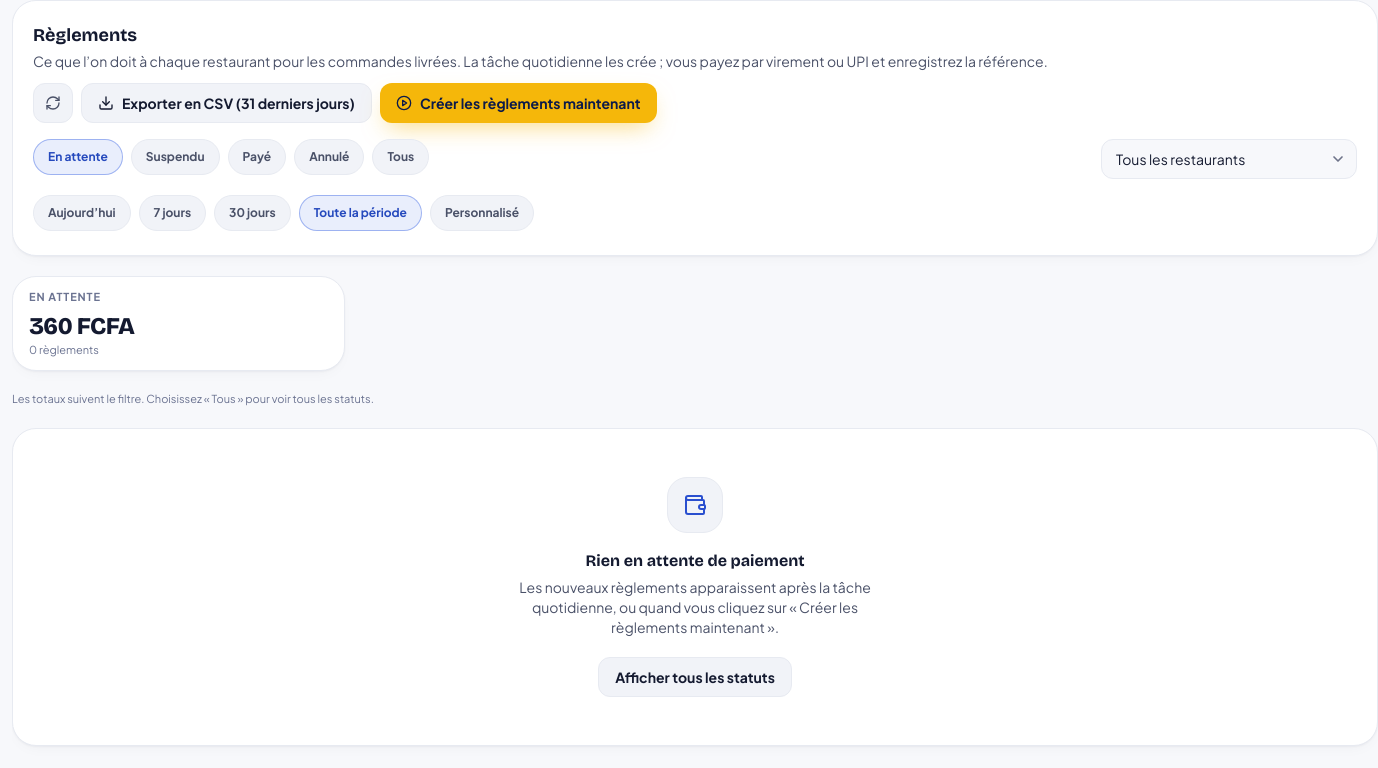
Test case: settlement list › empty and error states
Click the button named "Recharger les règlements" at x=53, y=103, box [33,83,73,123]
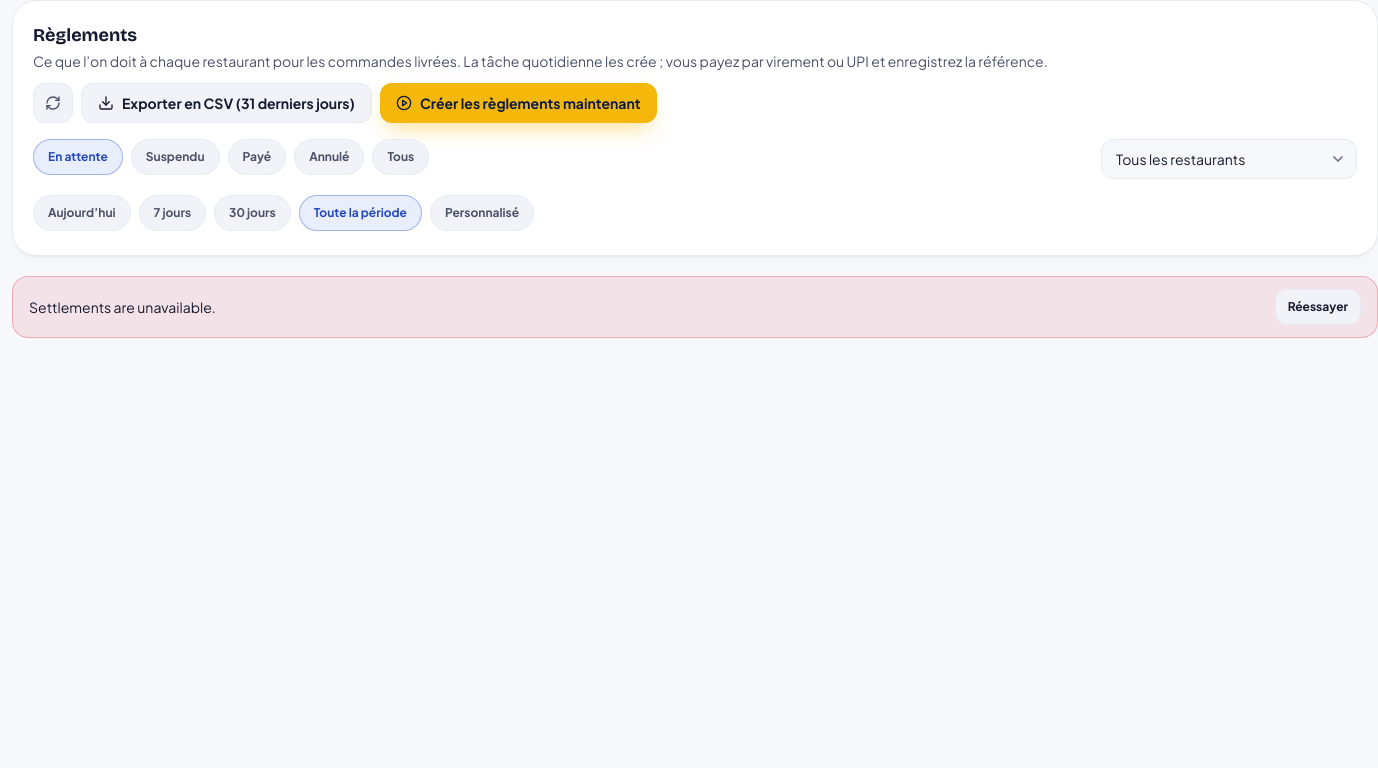
Expected: the message "Settlements are unavailable. Réessayer" is shown, [12,276,1377,338]
Expected: the element with test id "settlement-summary" is gone
Click the button "Réessayer" at x=1318, y=307, box [1275,289,1361,325]
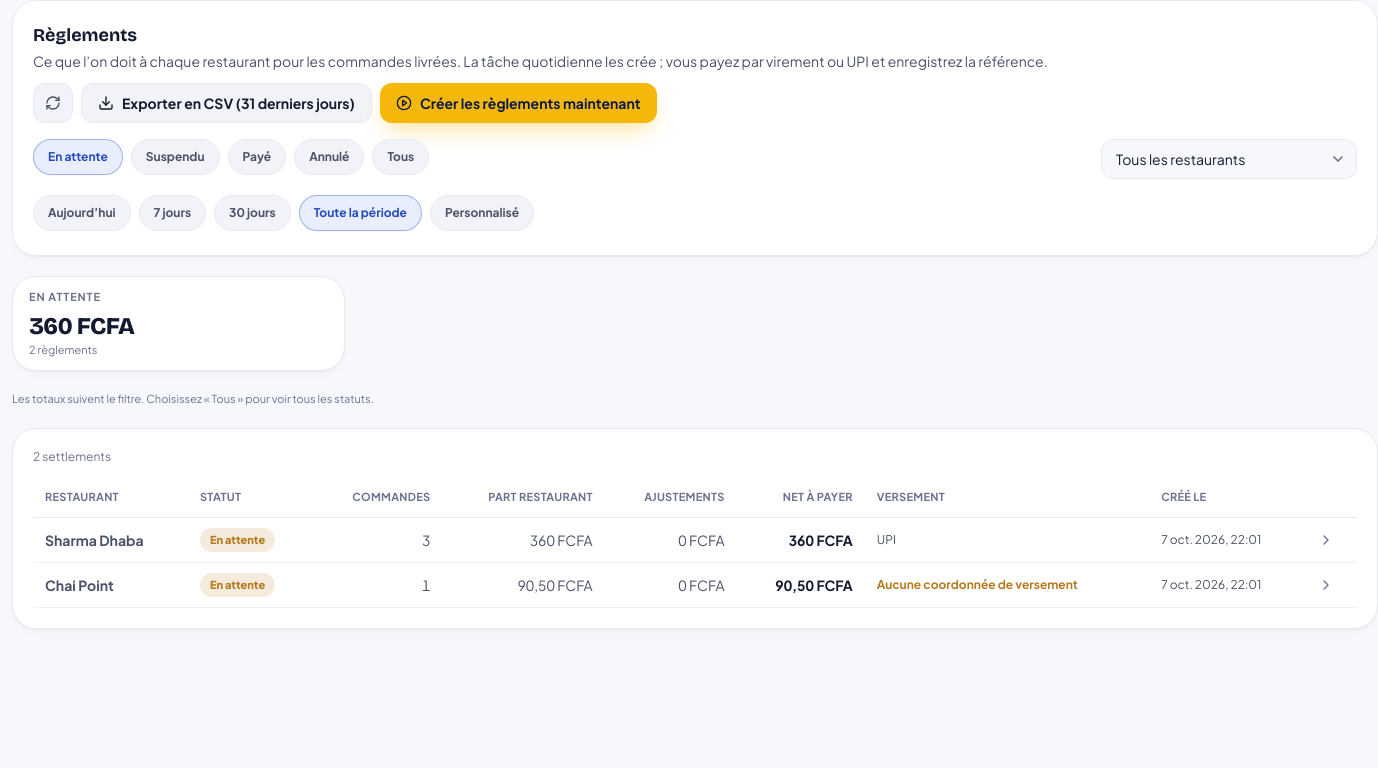
Expected: the text "Sharma Dhaba" is shown, [33,518,188,562]
